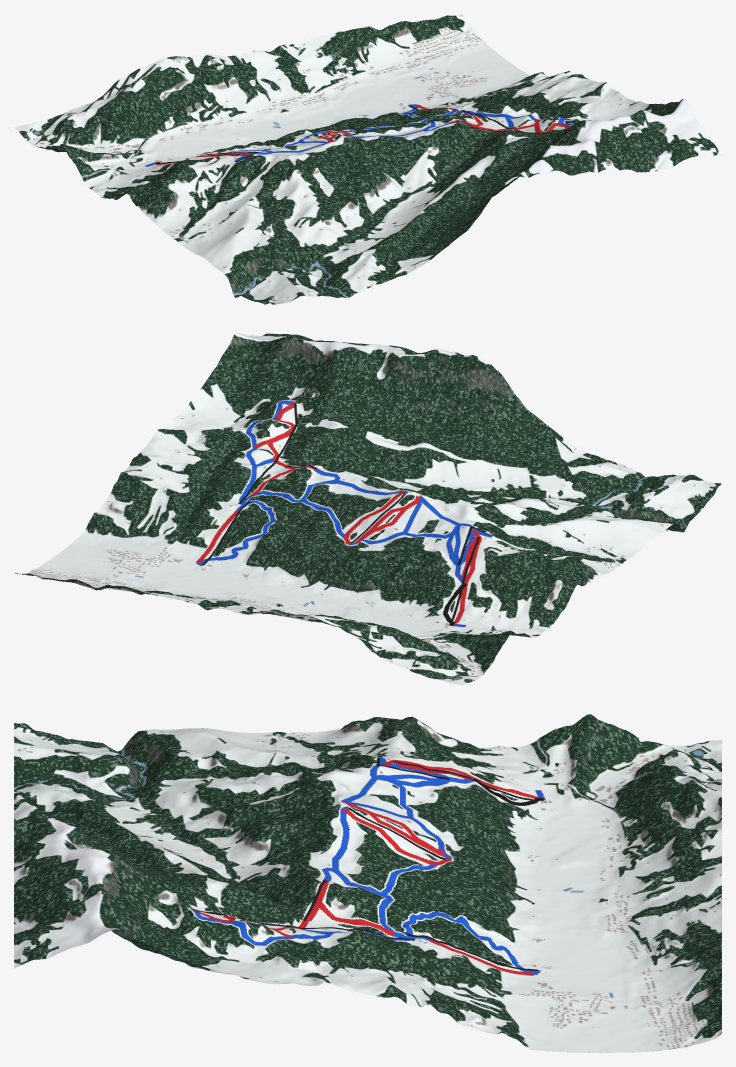
The picture shows the model from 3 angles, top to bottom: view 1: azimuth 30°, elevation 25°; view 2: azimuth 150°, elevation 25°; view 3: azimuth 270°, elevation 25°; orthographic projection. The views are drawn at different scales.
Visible parts, largest first — view 1: C4_Huendle.glb; view 2: C4_Huendle.glb; view 3: C4_Huendle.glb.
Boxes of the visible parts, x1,y1,x2,y2 form: C4_Huendle.glb: (14,14,721,304); C4_Huendle.glb: (14,333,721,685); C4_Huendle.glb: (14,714,721,1052).
Size of the model in its own units: 4149 by 865 by 4149.
Materials: 1 (1 with a texture image).
